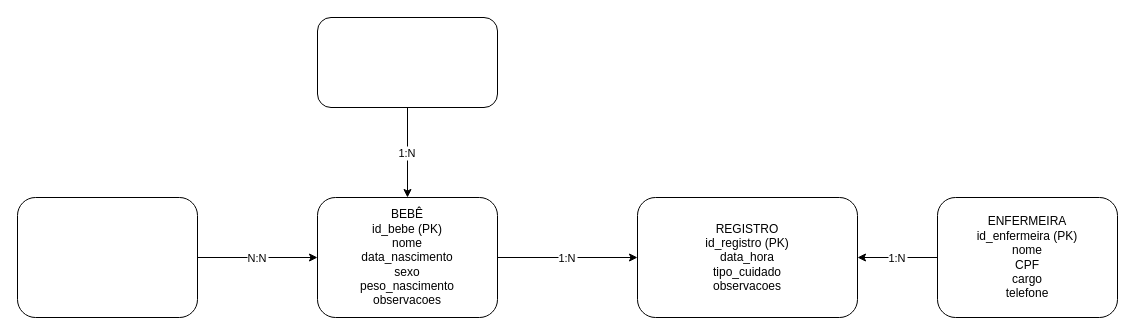
Image size: 1135x335. Some labels were removed from this diagram. Here are the shapes that lost their labels. From the top down, the centre of each, then its label:
At point (407, 62): "SALA id_sala (PK) nome_sala capacidade".
At point (107, 257): "RESPONSÁVEL id_responsavel (PK) nome CPF telefone endereço parentesco".
